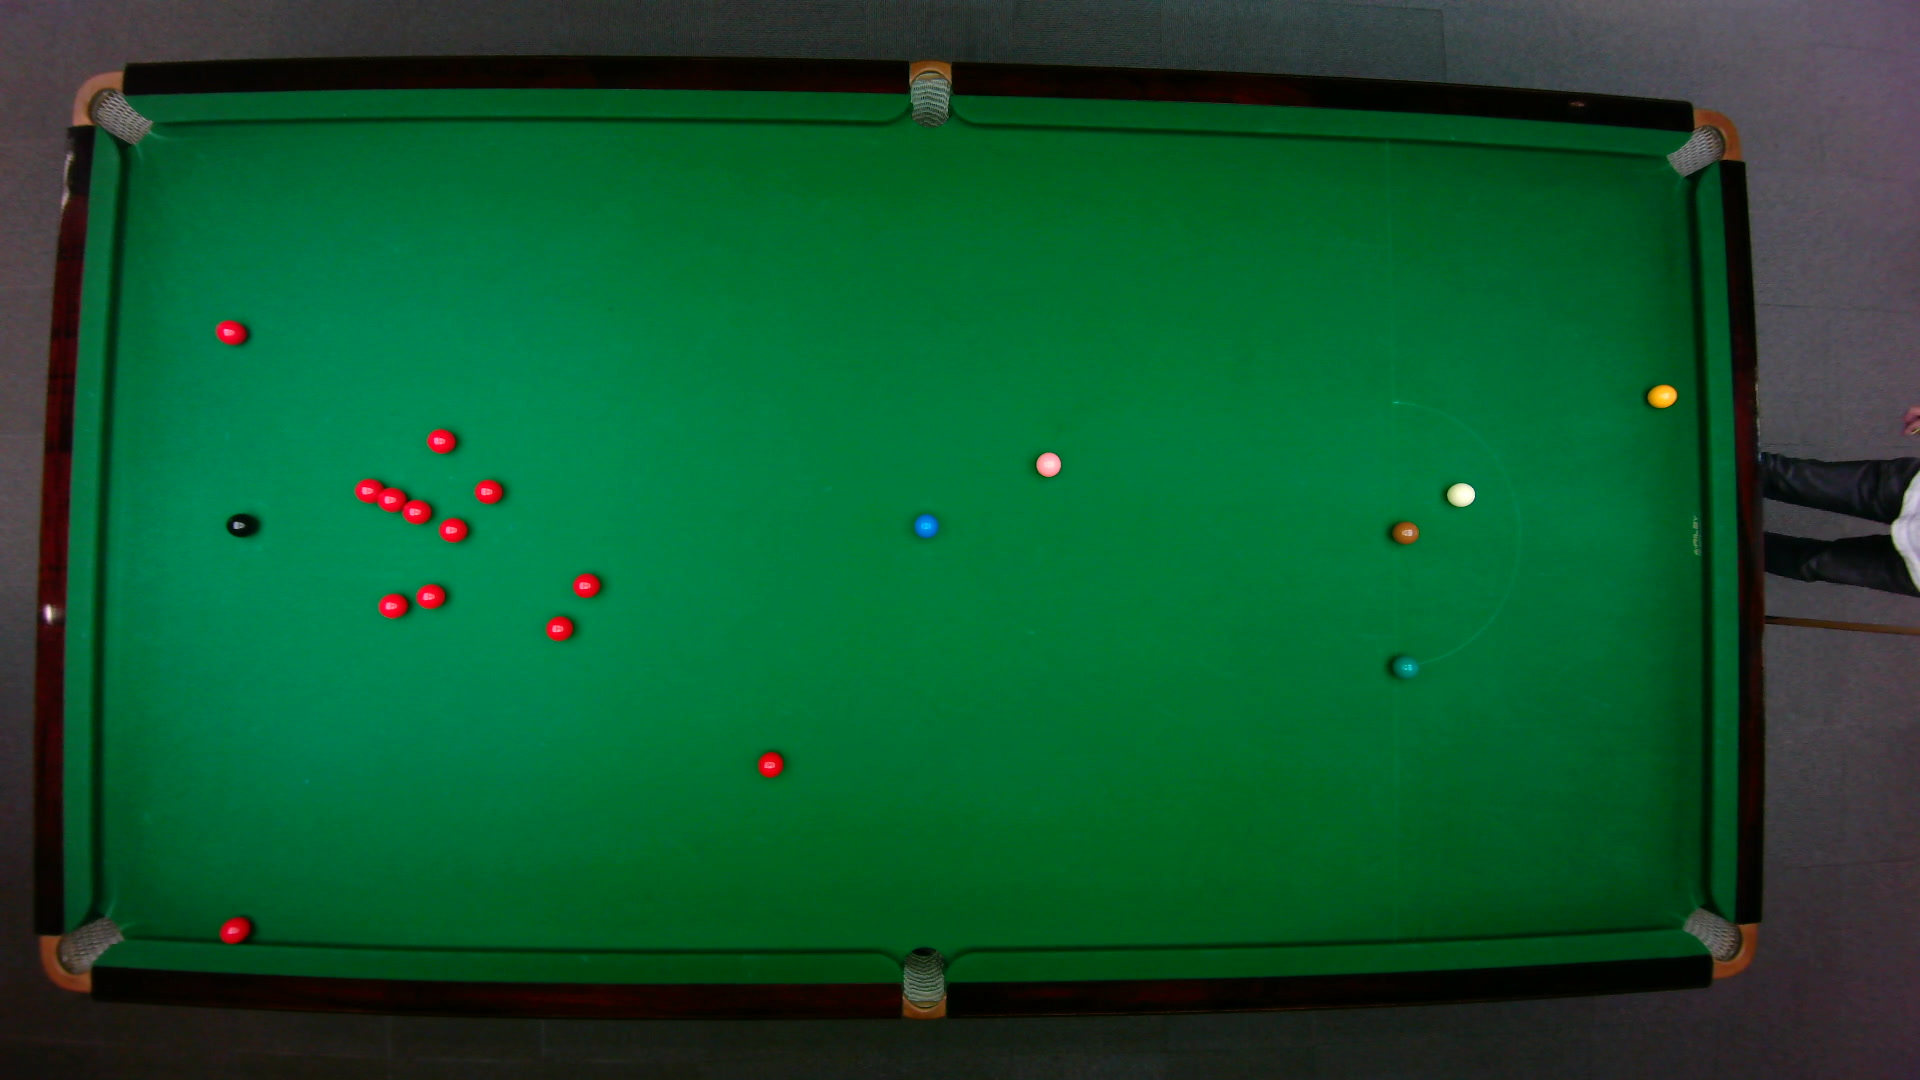bag: (37, 914, 125, 992), (69, 69, 153, 145), (1677, 905, 1756, 978), (1663, 107, 1741, 177), (901, 944, 944, 1021), (909, 57, 949, 128)
black: (224, 512, 256, 537)
blue: (913, 512, 938, 538)
brown: (1390, 520, 1419, 545)
green: (1389, 651, 1419, 679)
pink: (1034, 448, 1062, 477)
red: (218, 914, 251, 944), (214, 318, 248, 345), (400, 496, 433, 524), (413, 582, 446, 609), (425, 426, 458, 454), (376, 591, 407, 618), (436, 516, 469, 542), (570, 571, 601, 597), (545, 615, 574, 642), (756, 749, 783, 778), (376, 485, 406, 512), (352, 476, 382, 502), (472, 477, 502, 502)
white: (1444, 480, 1476, 506)
yellow: (1644, 382, 1677, 407)
zone: (1389, 400, 1520, 667)
